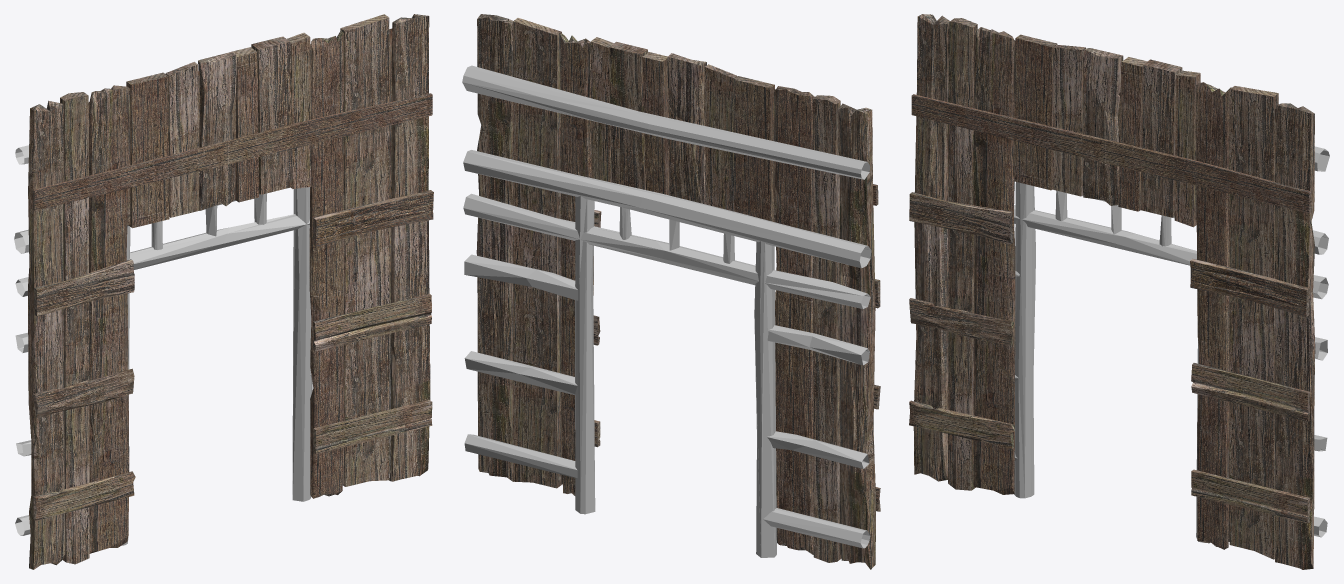
Rendered from WoodWall_6.fbx.
3 views of the same model, side by side, from view 1: azimuth 30°, elevation 25°; view 2: azimuth 150°, elevation 25°; view 3: azimuth 330°, elevation 25° (orthographic).
Visible parts, largest first — view 1: 3D_WoodWall6.mo; view 2: 3D_WoodWall6.mo; view 3: 3D_WoodWall6.mo.
Part boxes in pixels (x1=…): 3D_WoodWall6.mo: x1=14, y1=14, x2=433, y2=569; 3D_WoodWall6.mo: x1=462, y1=14, x2=880, y2=569; 3D_WoodWall6.mo: x1=909, y1=14, x2=1329, y2=569.
Size of the model in its own units: 376 by 422 by 38.32.
